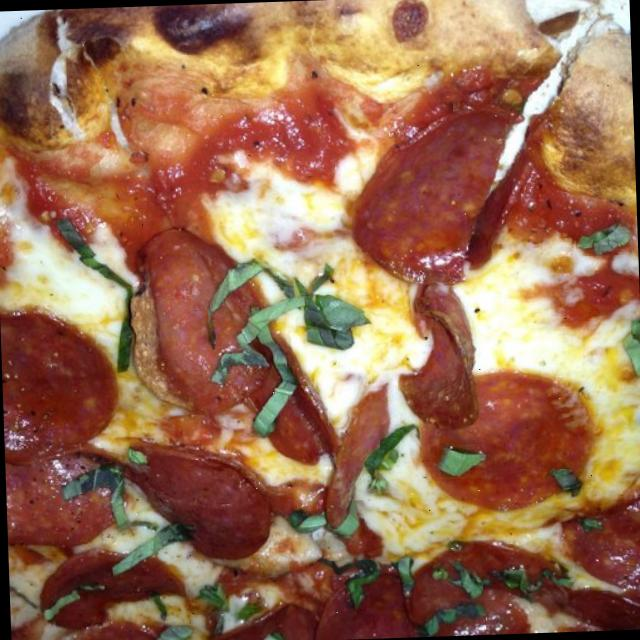basil: (58, 215, 148, 380), (203, 259, 289, 344), (238, 298, 361, 354), (362, 422, 426, 490), (253, 352, 300, 439), (115, 526, 187, 578), (290, 500, 364, 538), (418, 602, 486, 636), (102, 460, 132, 535), (575, 220, 632, 256), (59, 468, 111, 503), (436, 443, 486, 479), (621, 311, 640, 380), (498, 565, 531, 600), (449, 565, 482, 598), (554, 464, 584, 498), (195, 584, 228, 612), (542, 566, 574, 592), (576, 520, 610, 532)
pepperoni: (138, 217, 328, 462), (350, 99, 510, 282), (420, 368, 597, 514), (0, 305, 118, 457), (128, 441, 268, 563), (402, 542, 576, 638), (388, 268, 479, 433), (320, 386, 404, 560), (4, 444, 136, 553), (35, 551, 188, 630), (561, 501, 640, 601), (305, 573, 414, 640)
pizza: (0, 0, 640, 640)
